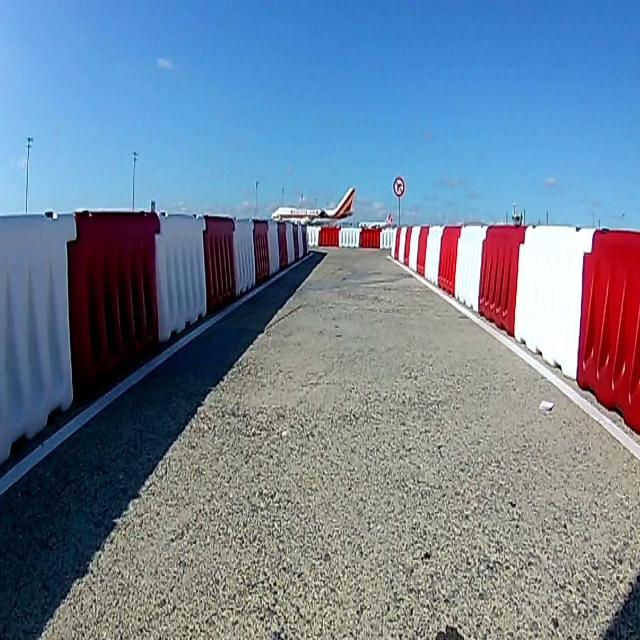sagadonulmez: (392, 176, 406, 197)
